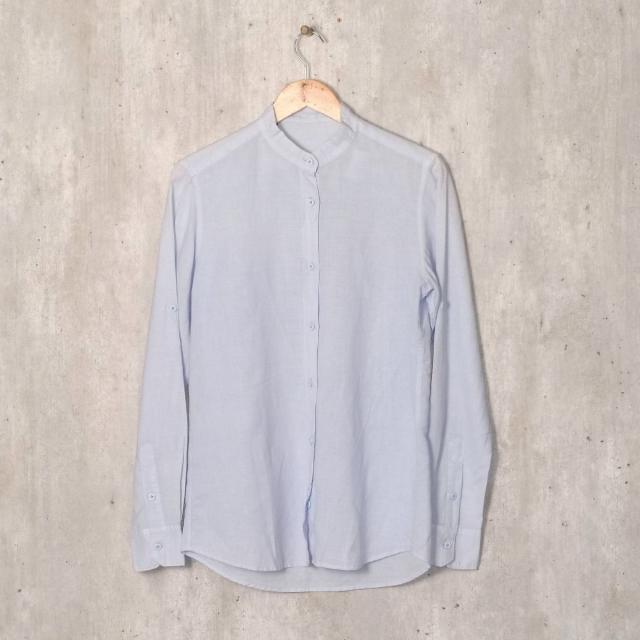long sleeve shirt: (131, 99, 497, 598)
